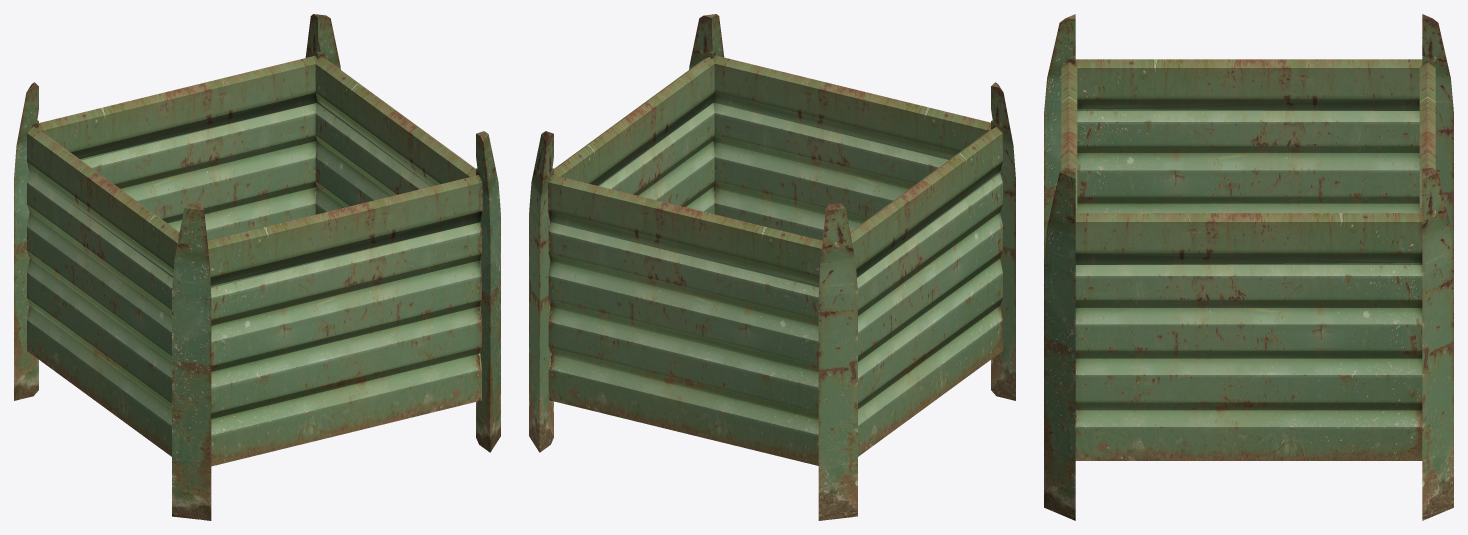
The model's file is GreenMetalBox.gltf.
The picture shows the model from 3 angles, left to right: view 1: azimuth 30°, elevation 25°; view 2: azimuth 150°, elevation 25°; view 3: azimuth 270°, elevation 25°; orthographic projection. The views are drawn at different scales.
Visible parts, largest first — view 1: node1; view 2: node1; view 3: node1.
Part boxes in pixels (bbox=[...]): node1: bbox=[14, 14, 500, 520]; node1: bbox=[529, 14, 1015, 520]; node1: bbox=[1044, 14, 1453, 520].
Size of the model in its own units: 0.8715 by 0.7835 by 0.8565.
